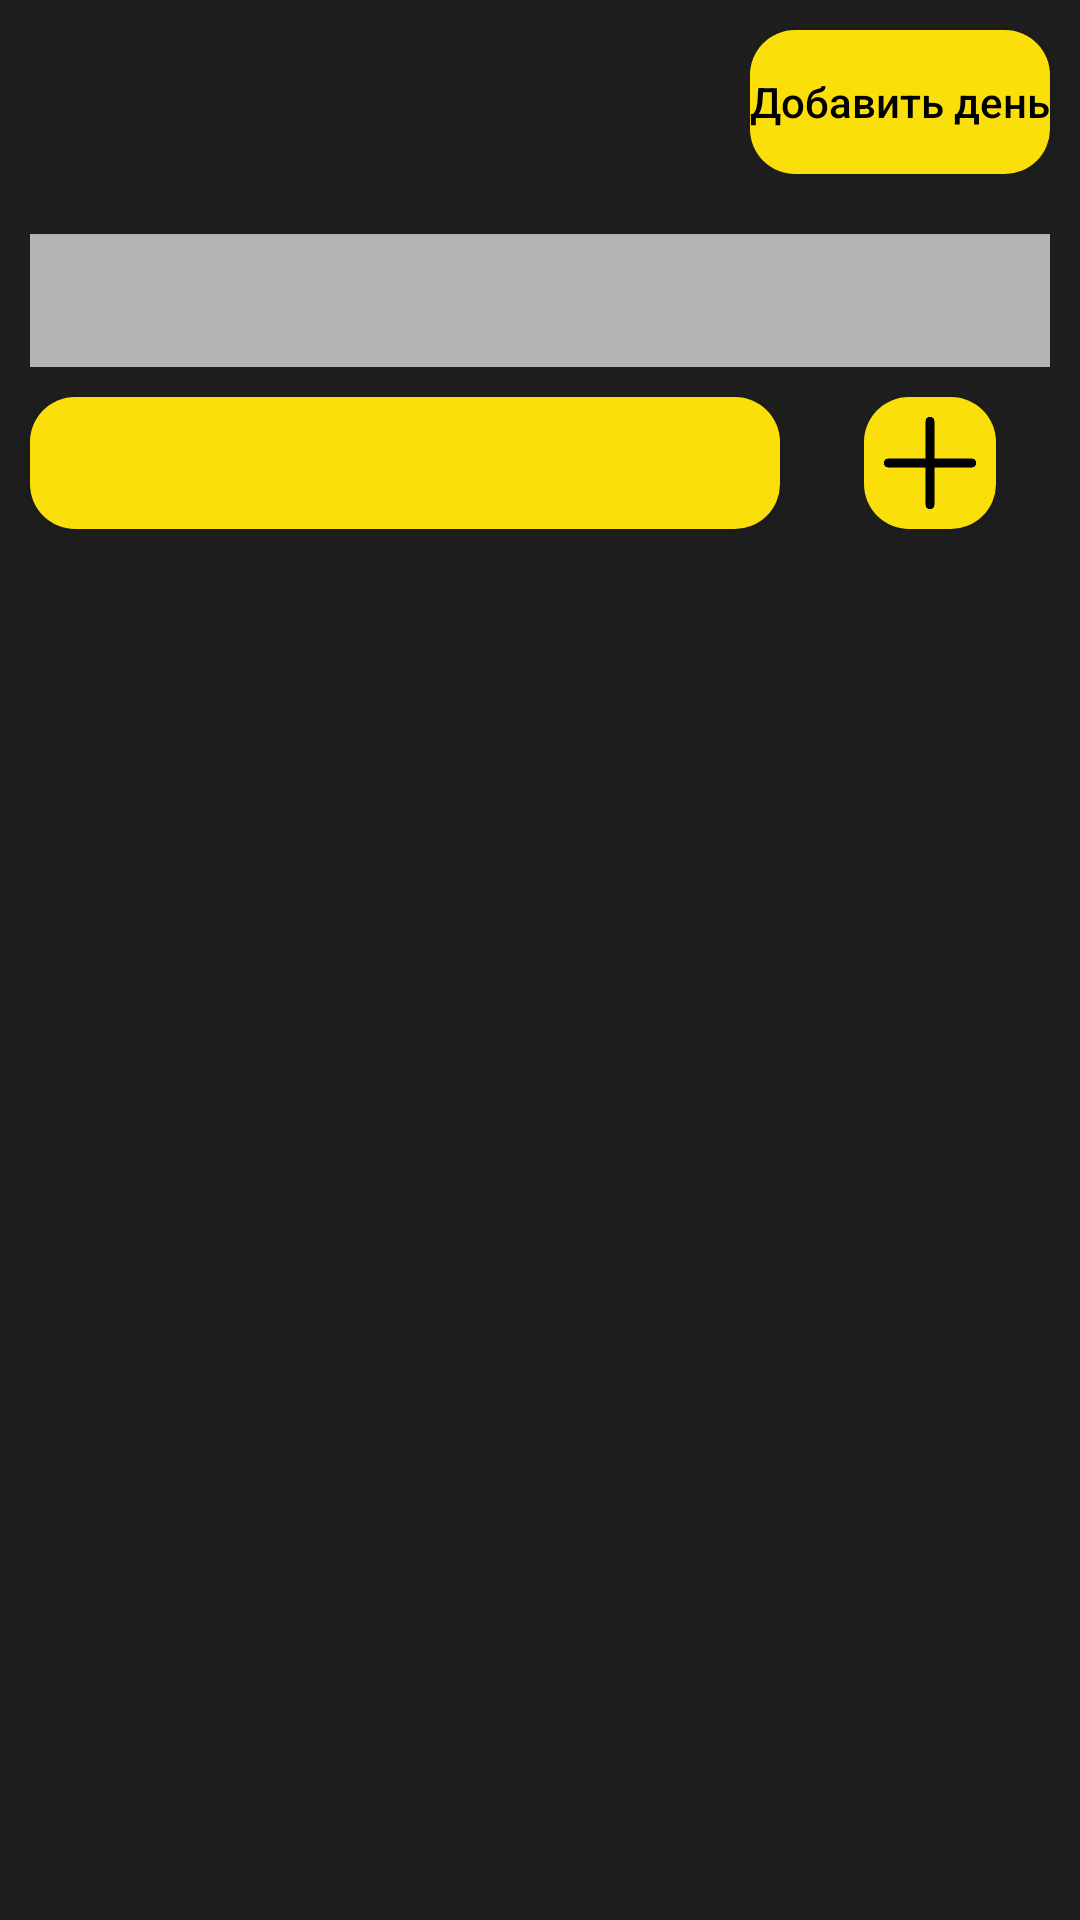

Icons on this 1080*1920 Android screen, each with the point to tap as (x,y):
plus: (930,463)
